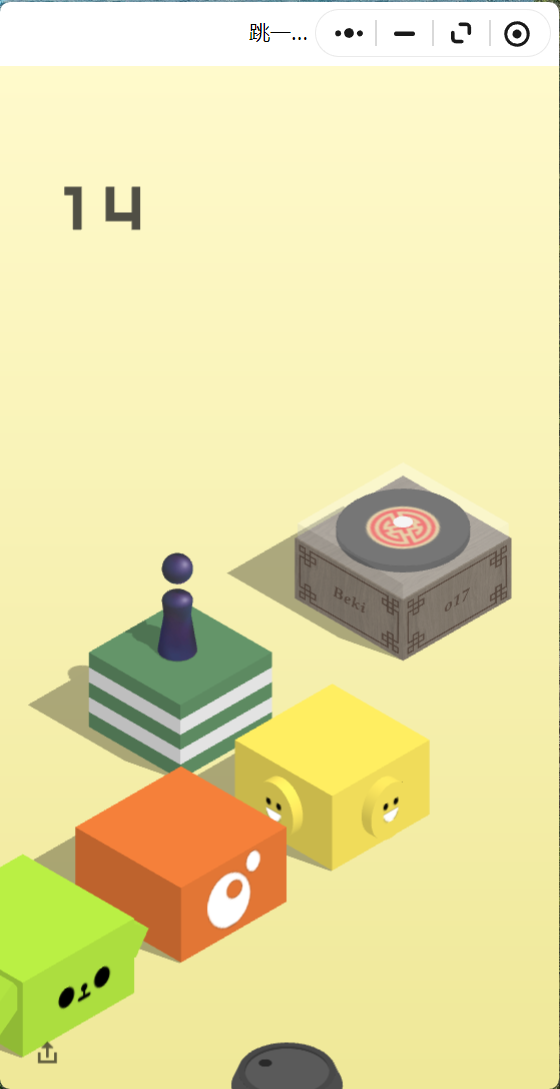piece: (162, 554, 192, 656)
target: (295, 475, 511, 601)
